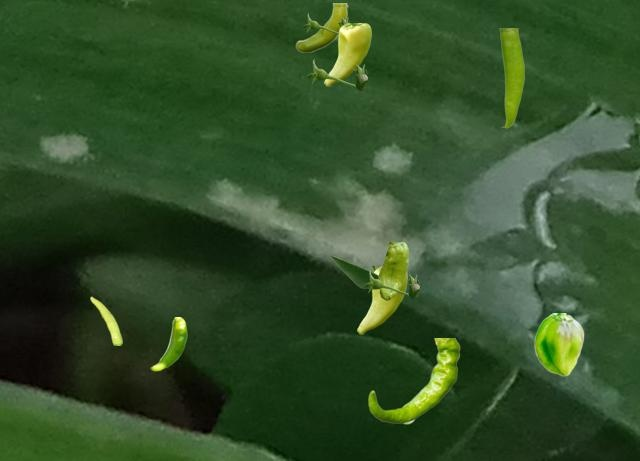green_chili: (368, 338, 459, 423), (357, 266, 406, 333), (534, 313, 583, 375), (324, 23, 370, 85), (295, 3, 347, 51), (499, 28, 523, 127), (150, 317, 186, 370), (378, 242, 407, 299), (90, 296, 121, 344)
